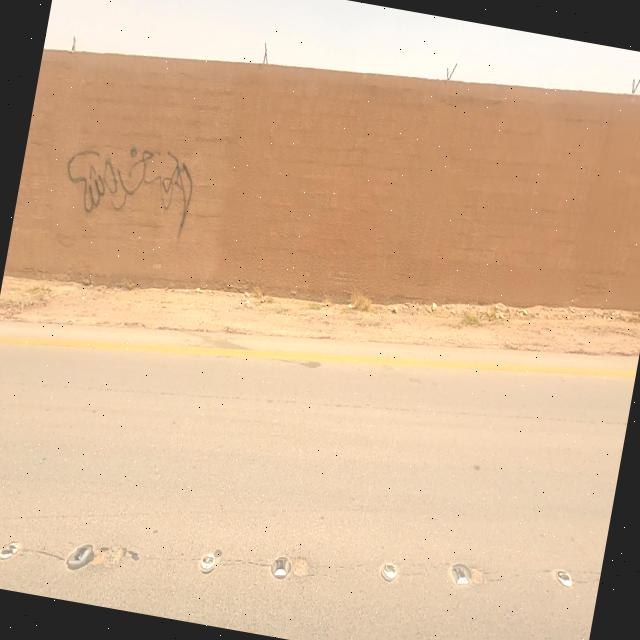Graffiti: (57, 132, 199, 234)
